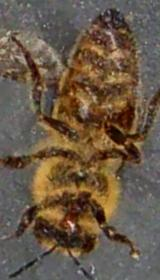varroa_mite: (58, 212, 83, 234)
